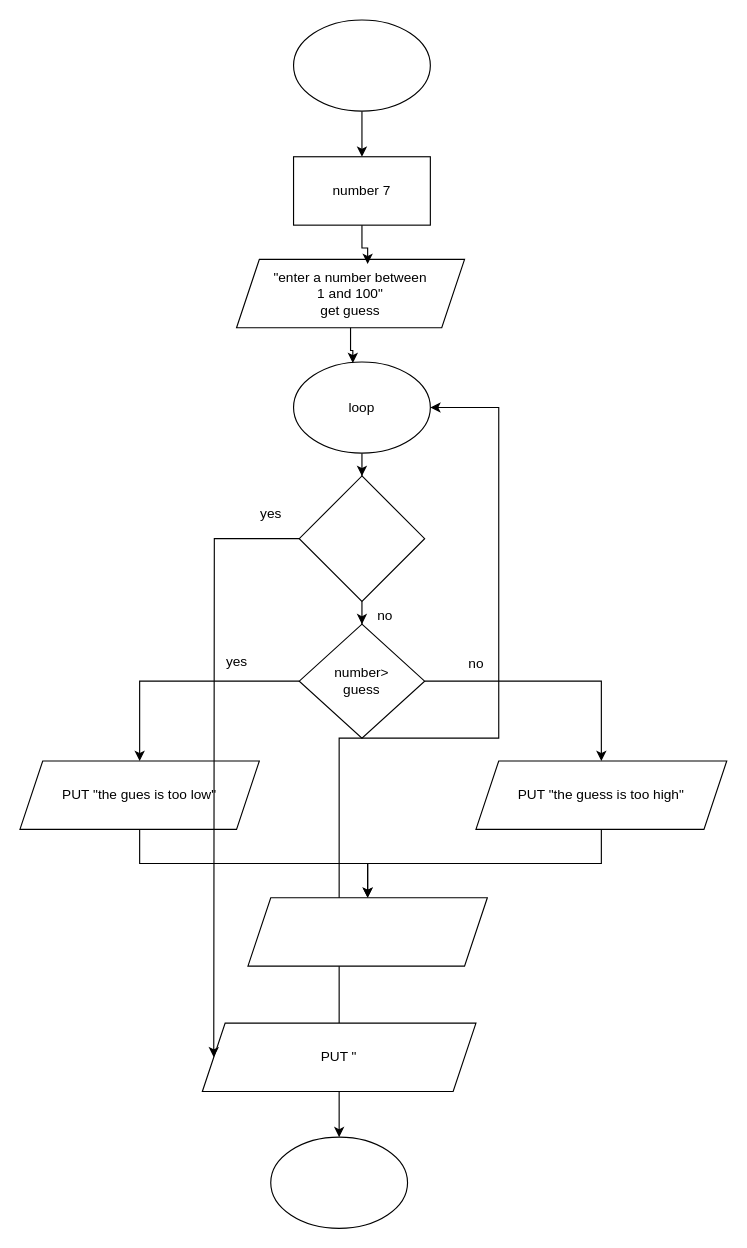
Image size: 747x1248. Some labels were removed from this diagram. The centre of each missing label's shape, as x and y in pixels:
"enter a number between 1 and 100? get guess: [367,931]
end: [339,1182]
number= guess: [361,538]
start: [361,65]
